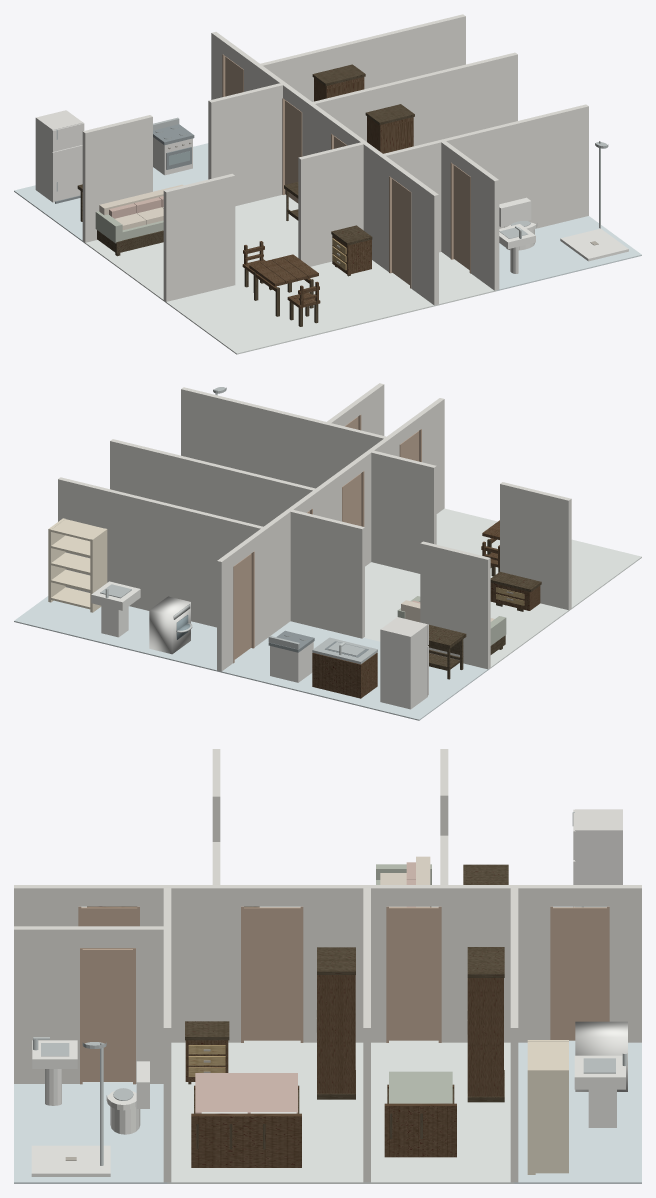
The picture shows the model from 3 angles, top to bottom: view 1: azimuth 30°, elevation 25°; view 2: azimuth 150°, elevation 25°; view 3: azimuth 270°, elevation 25°; orthographic projection. The views are drawn at different scales.
Parts seen in each view (by area): view 1: H30_WALL_11, H30_FLOOR_00_COPA_/_REFEICOES, H30_WALL_12, H30_WALL_00, H30_WALL_13, H30_WALL_03, H30_WALL_01, H30_WALL_02, H30_FLOOR_01_SALA_DE_ESTAR, H30_FLOOR_04_BANHEIRO, H30_WALL_09, H30_WALL_04 (+27 smaller); view 2: H30_WALL_13, H30_WALL_11, H30_WALL_12, H30_WALL_03, H30_WALL_00, H30_WALL_01, H30_WALL_02, H30_FLOOR_02_COZINHA, H30_FLOOR_07_LAVANDERIA, H30_FLOOR_01_SALA_DE_ESTAR, H30_FLOOR_00_COPA_/_REFEICOES, H30_WALL_07 (+24 smaller); view 3: H30_FLOOR_05_QUARTO_CASAL, H30_WALL_07, H30_FLOOR_06_QUARTO_02, H30_WALL_05, H30_FLOOR_04_BANHEIRO, H30_WALL_09, H30_FLOOR_07_LAVANDERIA, H30_WALL_06, H30_DOOR_01_LEAF, H30_DOOR_02_LEAF, H30_DOOR_03_LEAF, H30_DOOR_04_LEAF (+36 smaller).
Boxes of the visible parts, bbox=[...] form: H30_WALL_11: bbox=[382, 104, 588, 252]; H30_FLOOR_00_COPA_/_REFEICOES: bbox=[165, 260, 436, 354]; H30_WALL_12: bbox=[310, 52, 517, 146]; H30_WALL_00: bbox=[163, 173, 235, 301]; H30_WALL_13: bbox=[259, 14, 465, 101]; H30_WALL_03: bbox=[208, 82, 284, 206]; H30_WALL_01: bbox=[298, 142, 364, 266]; H30_WALL_02: bbox=[82, 115, 152, 242]; H30_FLOOR_01_SALA_DE_ESTAR: bbox=[84, 194, 298, 301]; H30_FLOOR_04_BANHEIRO: bbox=[497, 216, 641, 290]; H30_WALL_09: bbox=[470, 162, 499, 290]; H30_WALL_04: bbox=[411, 177, 438, 305]; H30_WALL_13: bbox=[58, 477, 263, 627]; H30_WALL_11: bbox=[181, 387, 388, 488]; H30_WALL_12: bbox=[110, 439, 315, 526]; H30_WALL_03: bbox=[288, 509, 364, 638]; H30_WALL_00: bbox=[500, 482, 571, 610]; H30_WALL_01: bbox=[369, 450, 436, 573]; H30_WALL_02: bbox=[420, 541, 490, 669]; H30_FLOOR_02_COZINHA: bbox=[219, 621, 489, 720]; H30_FLOOR_07_LAVANDERIA: bbox=[14, 596, 219, 671]; H30_FLOOR_01_SALA_DE_ESTAR: bbox=[364, 562, 569, 669]; H30_FLOOR_00_COPA_/_REFEICOES: bbox=[436, 508, 641, 609]; H30_WALL_07: bbox=[249, 508, 292, 646]; H30_FLOOR_05_QUARTO_CASAL: bbox=[167, 1041, 367, 1183]; H30_WALL_07: bbox=[440, 885, 551, 1042]; H30_FLOOR_06_QUARTO_02: bbox=[367, 1041, 514, 1183]; H30_WALL_05: bbox=[138, 885, 242, 1042]; H30_FLOOR_04_BANHEIRO: bbox=[14, 1082, 167, 1183]; H30_WALL_09: bbox=[14, 926, 81, 1083]; H30_FLOOR_07_LAVANDERIA: bbox=[514, 1041, 641, 1183]; H30_WALL_06: bbox=[302, 885, 387, 1042]; H30_DOOR_01_LEAF: bbox=[244, 907, 300, 1040]; H30_DOOR_02_LEAF: bbox=[389, 907, 438, 1040]; H30_DOOR_03_LEAF: bbox=[553, 907, 606, 1040]; H30_DOOR_04_LEAF: bbox=[82, 948, 132, 1081].
Bounding box in the file's own units: 9.41 × 2.46 × 8.96.
Materials: 22 (3 with a texture image).
